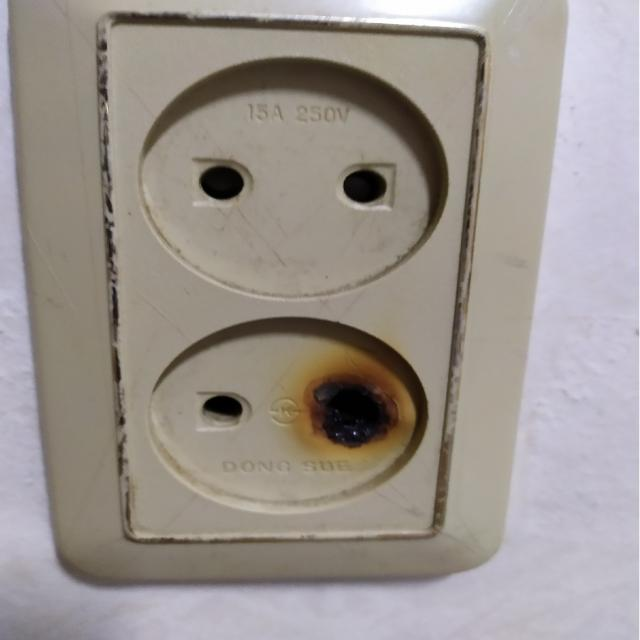typeb: (106, 5, 456, 559)
